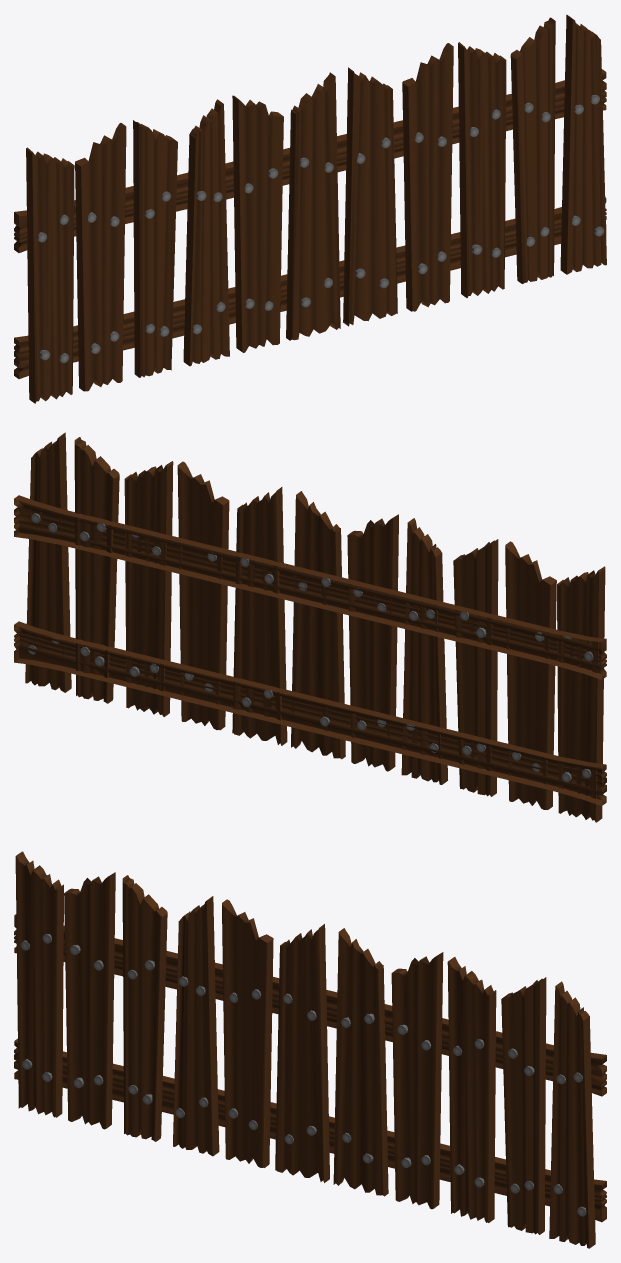
File: Fence 3.fbx
The picture shows the model from 3 angles, top to bottom: view 1: azimuth 30°, elevation 25°; view 2: azimuth 150°, elevation 25°; view 3: azimuth 330°, elevation 25°; orthographic projection.
Visible parts, largest first — view 1: pCube51; view 2: pCube51; view 3: pCube51.
Part boxes in pixels (box(x1,y1,x2,y2)): pCube51: box(14, 14, 606, 403); pCube51: box(14, 432, 606, 822); pCube51: box(14, 851, 606, 1248).
Size of the model in its own units: 7.59 by 3.15 by 0.2778.
